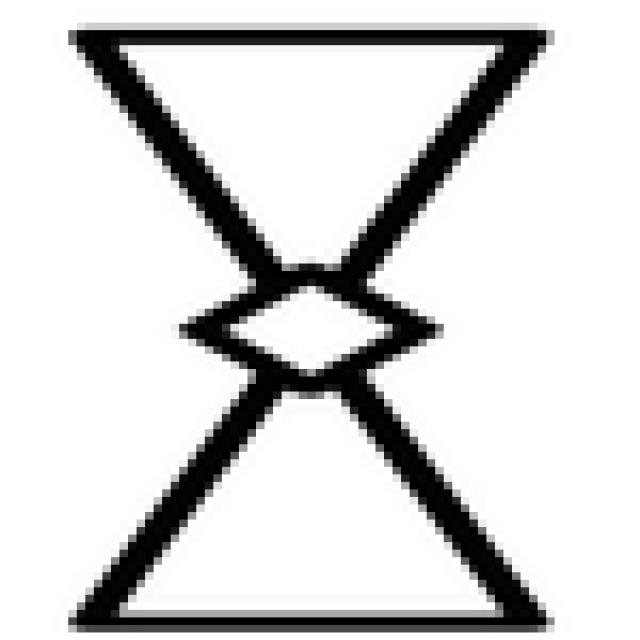Plug Valve: (79, 33, 550, 621)
